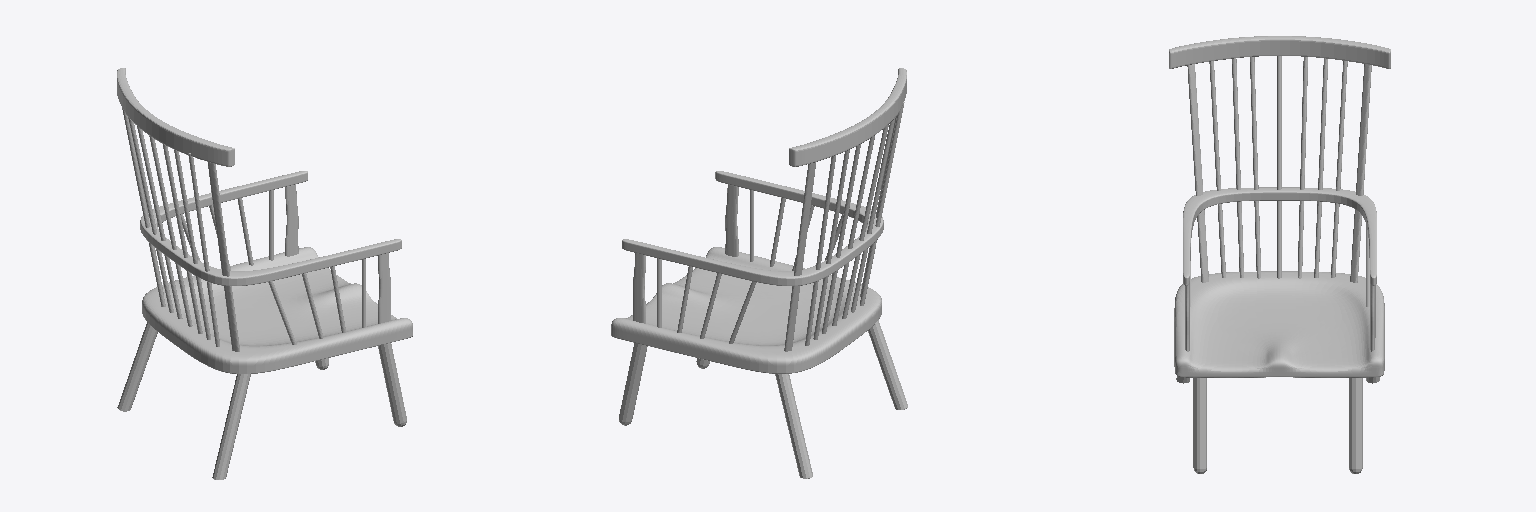
The model's file is mini-chair.obj.
The picture shows the model from 3 angles: view 1: azimuth 30°, elevation 25°; view 2: azimuth 150°, elevation 25°; view 3: azimuth 270°, elevation 25°; orthographic projection.
Parts seen in each view (by area): view 1: Box003, Object001, Object002, OilTank002, Plane004, OilTank003, OilTank001, Plane001, Cylinder010, Cylinder011, Cylinder012, Plane002 (+4 smaller); view 2: Box003, Object001, Object002, OilTank003, Plane003, OilTank002, OilTank004, Plane002, Cylinder010, Cylinder009, Cylinder013, Cylinder011 (+4 smaller); view 3: Box003, Object002, Object001, Plane003, Plane004, OilTank004, OilTank001, Cylinder015, Cylinder014, Cylinder013, Cylinder012, Cylinder011 (+2 smaller).
Part boxes in pixels (x1,y1,x2,y2): Box003: (142,247,412,373); Object001: (140,171,401,285); Object002: (117,68,234,166); OilTank002: (212,374,250,479); Plane004: (208,162,239,351); OilTank003: (117,322,157,411); OilTank001: (378,343,406,426); Plane001: (285,184,298,256); Cylinder010: (188,153,219,346); Cylinder011: (128,117,173,312); Cylinder012: (174,150,210,339); Plane002: (378,253,390,323); Box003: (611,247,881,373); Object001: (622,171,883,285); Object002: (789,68,906,166); OilTank003: (775,374,812,478); Plane003: (784,162,815,351); OilTank002: (868,320,907,409); OilTank004: (619,343,647,425); Plane002: (725,184,738,256); Cylinder010: (860,102,904,305); Cylinder009: (805,155,835,345); Cylinder013: (842,125,888,318); Cylinder011: (813,150,849,339); Box003: (1174,271,1384,377); Object002: (1169,36,1390,68); Object001: (1183,187,1376,285); Plane003: (1350,64,1371,282); Plane004: (1187,64,1208,282); OilTank004: (1349,378,1362,473); OilTank001: (1193,378,1206,473); Cylinder015: (1277,56,1281,278); Cylinder014: (1298,57,1307,278); Cylinder013: (1250,57,1260,278); Cylinder012: (1232,58,1243,277); Cylinder011: (1314,58,1327,277).
Bounding box in the file's own units: 736 × 1063 × 642.